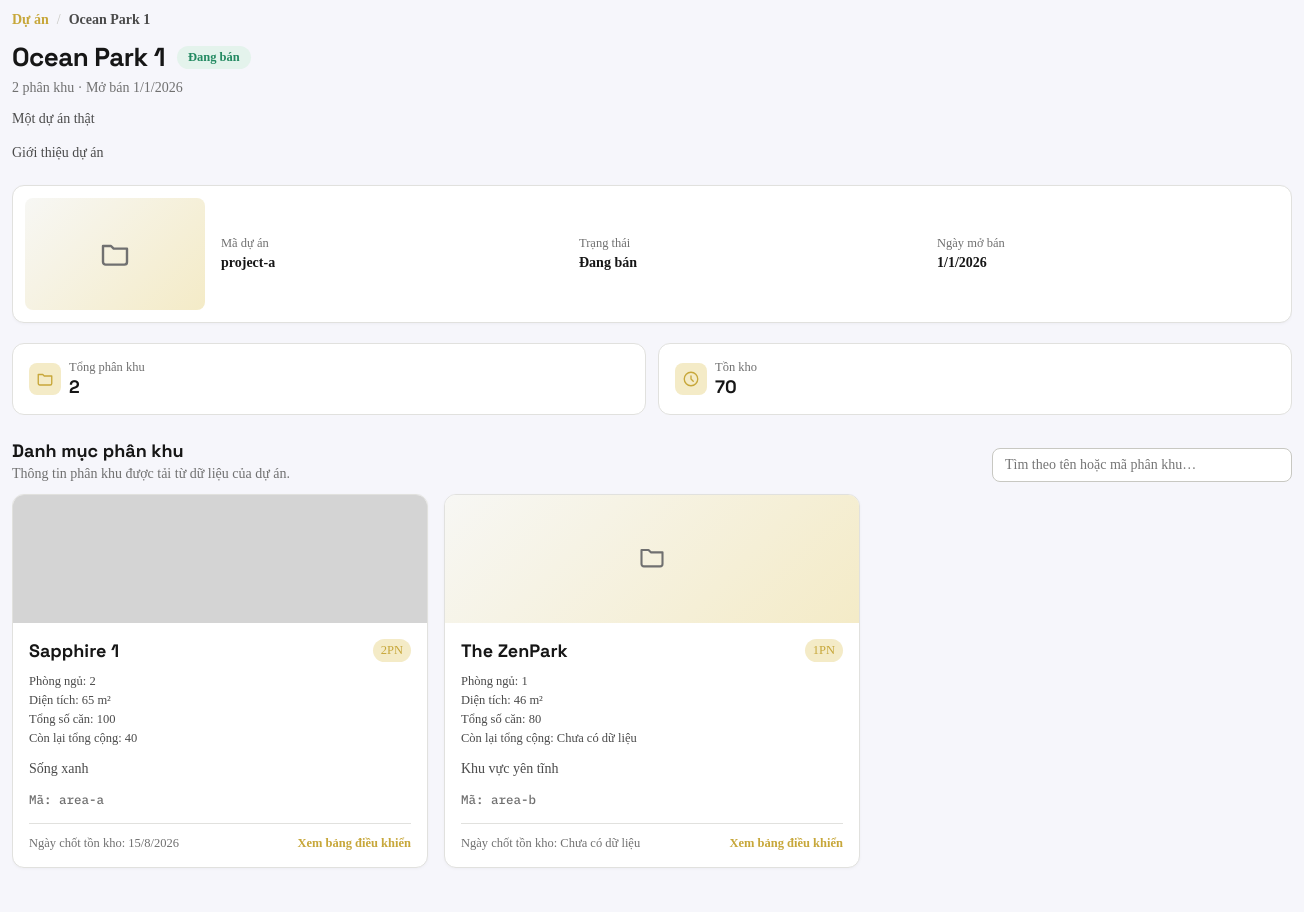
it: ProjectDetailPage area list › shows and clears the filtered-empty state
Type "missing" into the field named "Tìm kiếm phân khu".
click(1142, 465); type("missing")  # box 992,448 -> 1292,482
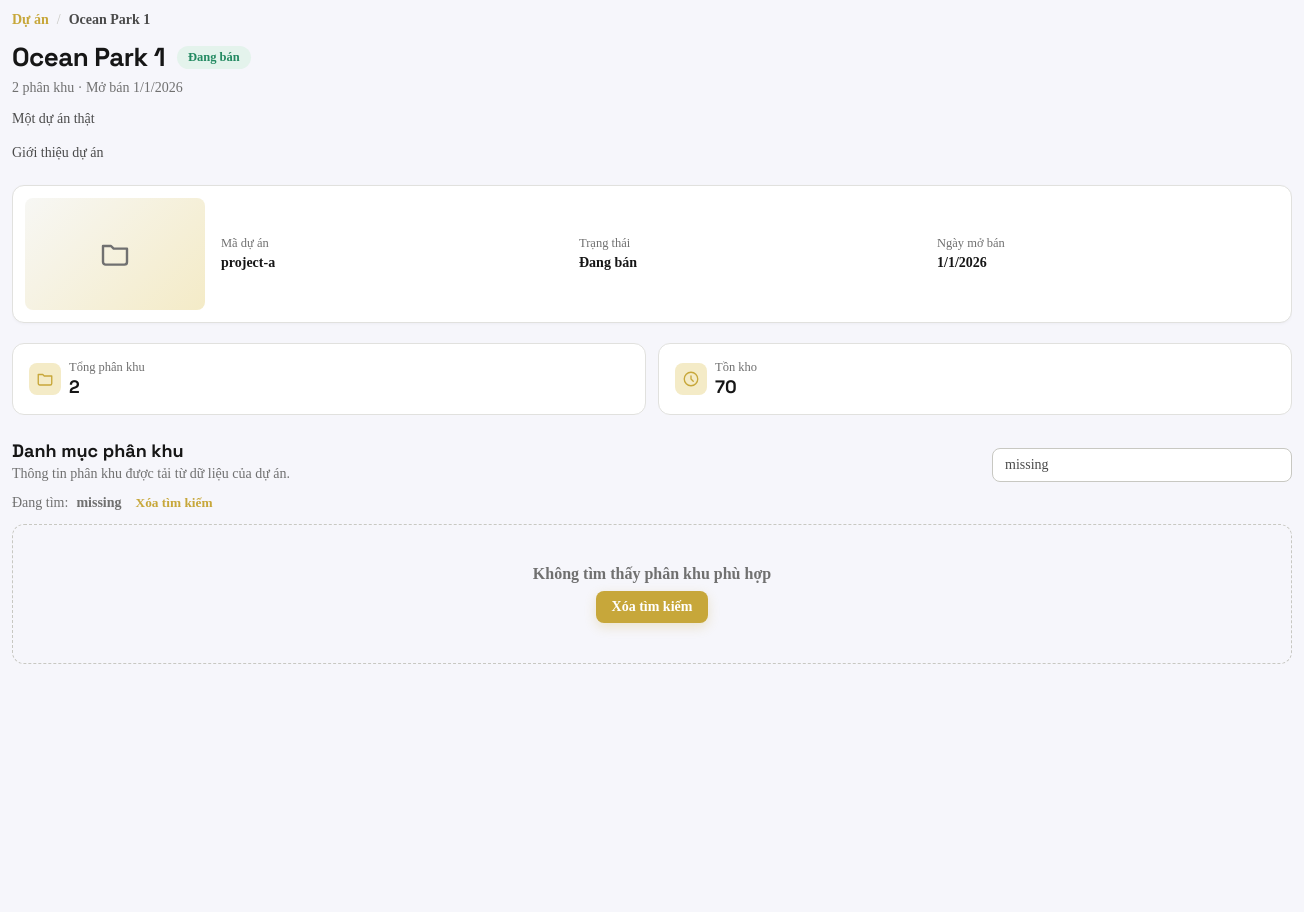
Result: the text "Không tìm thấy phân khu phù hợp" is shown at 533,565 -> 771,583
Click the button "Xóa tìm kiếm" below "Không tìm thấy phân khu phù hợp".
click(652, 607)  # box 596,591 -> 708,623
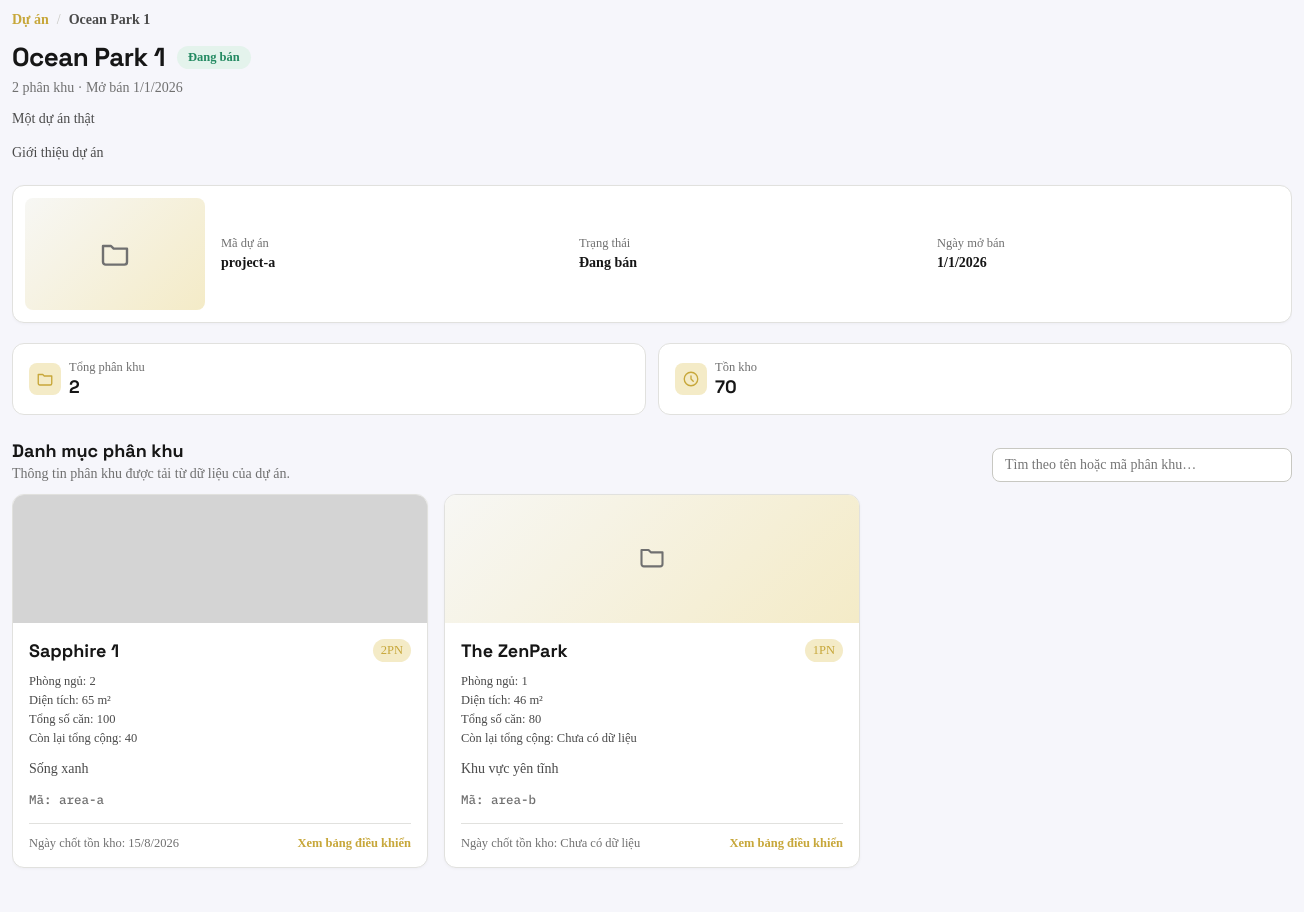
Result: the number of elements with test id "area-card" is 2 at 12,494 -> 428,868; 444,494 -> 860,868
